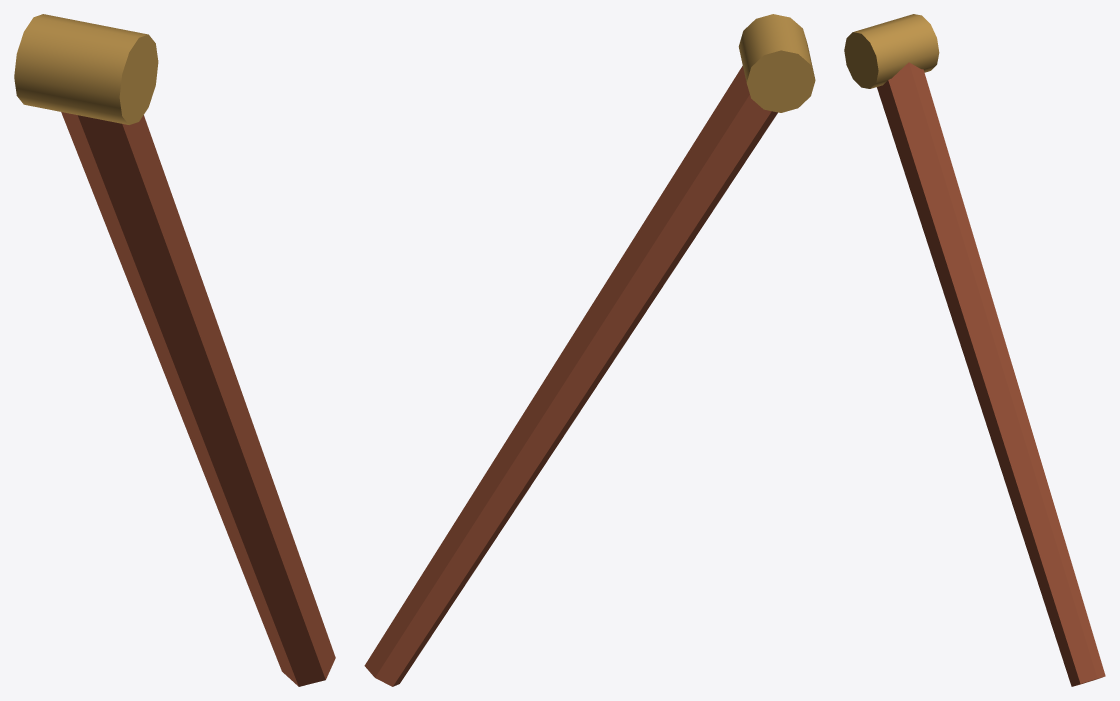
The model's file is rm2_leg_rl_tibia.obj.
The picture shows the model from 3 angles, left to right: view 1: azimuth 30°, elevation 25°; view 2: azimuth 150°, elevation 25°; view 3: azimuth 270°, elevation 25°; orthographic projection. The views are drawn at different scales.
Parts seen in each view (by area): view 1: rm2_leg_rl_tibia; view 2: rm2_leg_rl_tibia; view 3: rm2_leg_rl_tibia.
Boxes of the visible parts, x1,y1,x2,y2 form: rm2_leg_rl_tibia: (14, 14, 335, 686); rm2_leg_rl_tibia: (364, 14, 815, 686); rm2_leg_rl_tibia: (844, 14, 1105, 686).
Size of the model in its own units: 0.4562 by 0.8124 by 0.3515.
